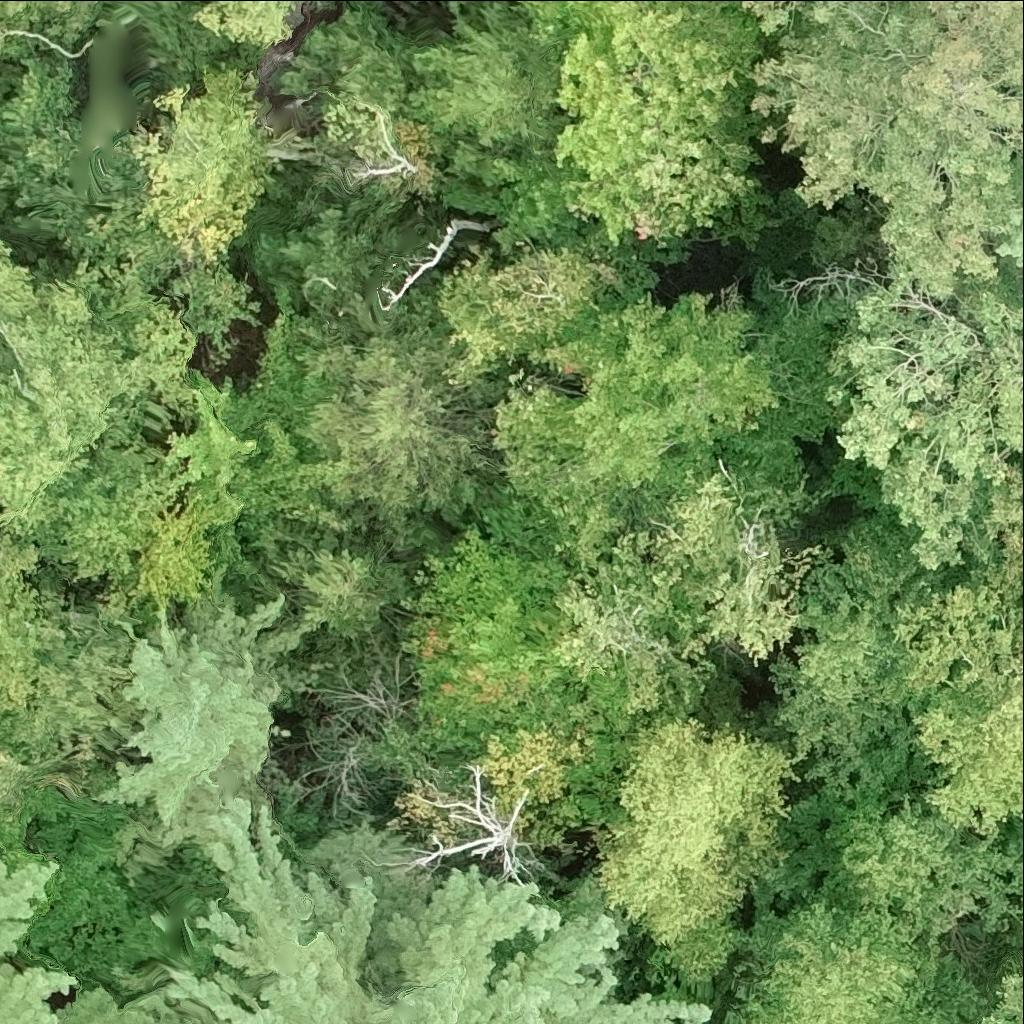crown: (160, 798, 713, 1023), (478, 290, 873, 575), (401, 524, 705, 832), (751, 0, 1023, 297), (494, 0, 769, 247), (828, 257, 1023, 577), (98, 570, 321, 842), (163, 278, 360, 581), (0, 241, 199, 540), (597, 720, 798, 976), (301, 293, 486, 539), (768, 533, 952, 764), (890, 534, 1023, 835), (646, 472, 823, 664), (11, 394, 183, 580), (114, 65, 273, 263), (409, 0, 580, 180), (552, 534, 718, 716), (431, 242, 616, 390), (732, 898, 949, 1023), (0, 530, 75, 749), (35, 616, 145, 756), (272, 547, 406, 637), (422, 767, 529, 874), (0, 962, 179, 1023), (131, 497, 211, 621), (377, 219, 488, 308), (0, 733, 92, 812), (0, 859, 59, 960), (999, 156, 1023, 265), (740, 0, 827, 29), (977, 973, 1023, 1023), (987, 0, 1023, 16), (930, 0, 955, 7)
